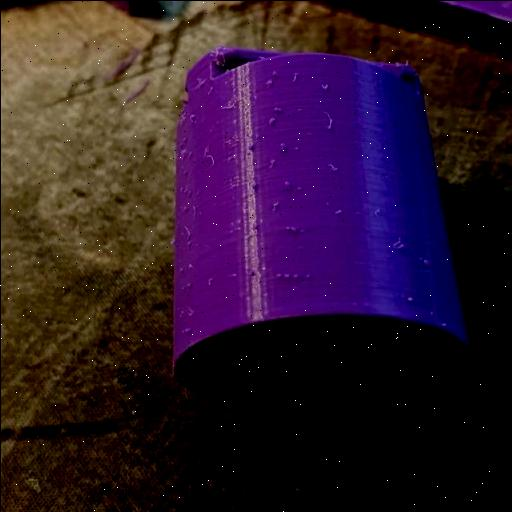blobs: (416, 255, 435, 269), (286, 225, 297, 236), (270, 102, 280, 114), (262, 78, 274, 88), (332, 206, 344, 216), (302, 268, 312, 279), (270, 66, 280, 77), (272, 269, 284, 278), (290, 270, 300, 280), (282, 180, 292, 190), (276, 140, 286, 150), (186, 110, 196, 120), (182, 278, 192, 288), (246, 142, 256, 150), (266, 117, 276, 125), (402, 296, 414, 302), (180, 135, 188, 143), (280, 272, 290, 278)
